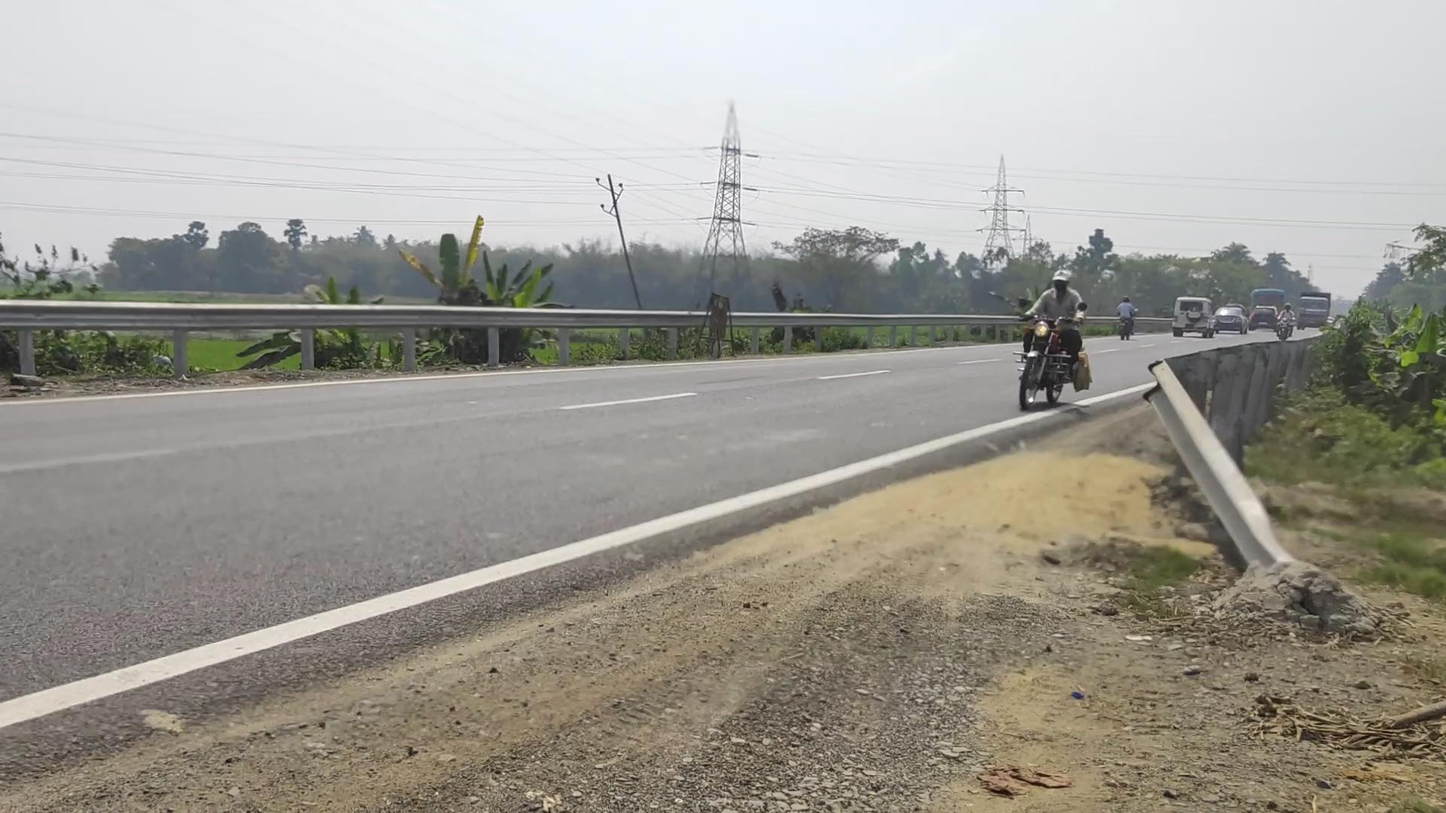Bus: (1249, 288, 1287, 330)
bike: (1012, 269, 1092, 411), (1117, 296, 1139, 341), (1277, 303, 1296, 341)
car: (1172, 297, 1216, 339), (1213, 306, 1249, 335), (1248, 304, 1279, 333)
truck: (1298, 291, 1332, 331)
